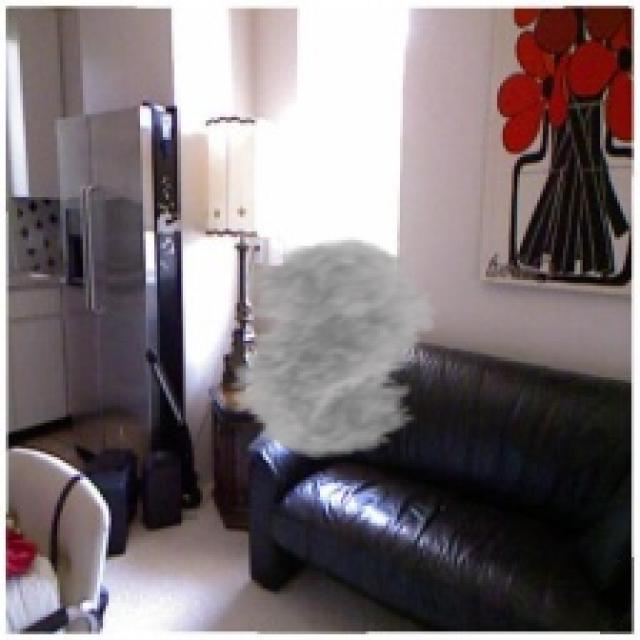Smoke: (202, 237, 458, 460)
